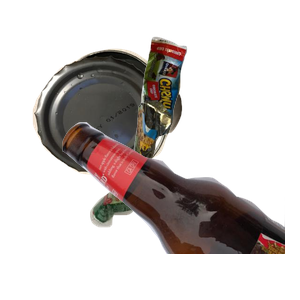glass: (60, 120, 300, 300)
metal: (30, 46, 205, 215)
plastic: (88, 182, 242, 300)
trash: (130, 34, 300, 203)
